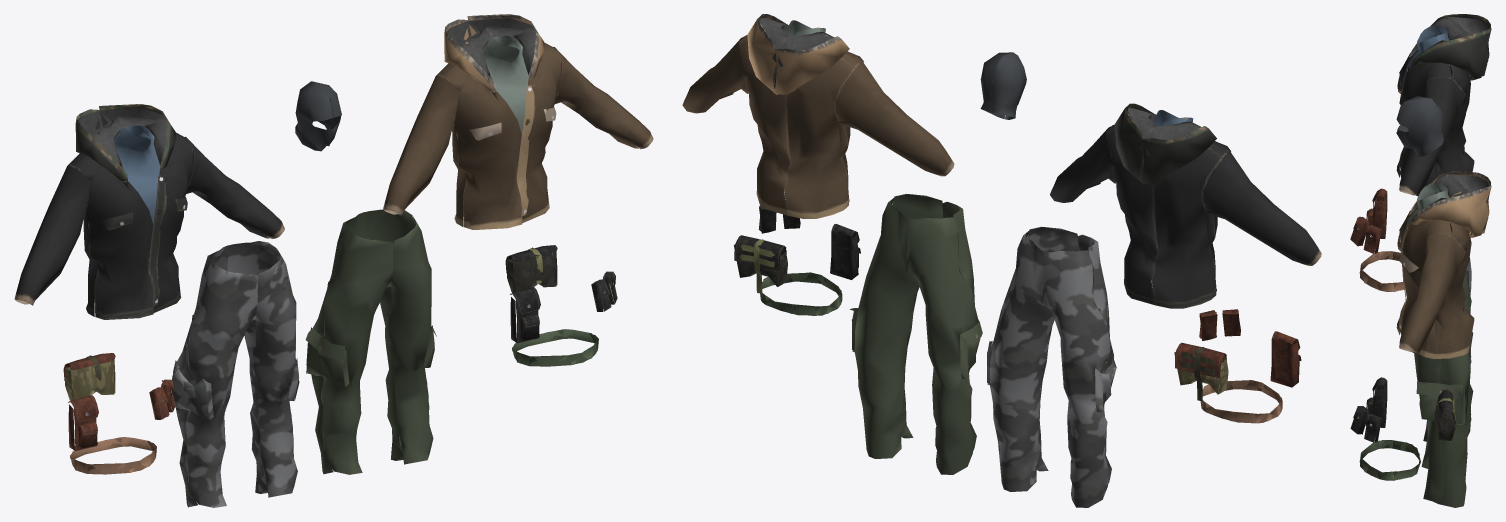
The model's file is SM_tactical_clothing_asset_pack.glb.
3 views of the same model, side by side, from view 1: azimuth 30°, elevation 25°; view 2: azimuth 150°, elevation 25°; view 3: azimuth 270°, elevation 25° (orthographic). The views are drawn at different scales.
Parts seen in each view (by area): view 1: SM_tactical_clothing_asset_pack; view 2: SM_tactical_clothing_asset_pack; view 3: SM_tactical_clothing_asset_pack.
Boxes of the visible parts, x1,y1,x2,y2 form: SM_tactical_clothing_asset_pack: (14, 14, 653, 507); SM_tactical_clothing_asset_pack: (682, 14, 1321, 507); SM_tactical_clothing_asset_pack: (1350, 14, 1491, 507).
Size of the model in its own units: 3.25 by 2.02 by 0.7161.
Materials: 6 (6 with a texture image).
